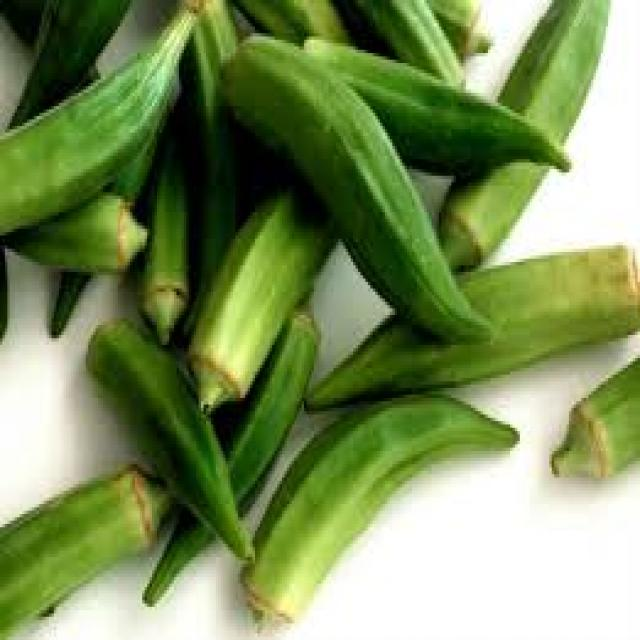organic waste: (218, 30, 491, 341), (238, 388, 517, 637), (302, 246, 638, 404), (140, 308, 316, 600), (434, 0, 611, 262), (0, 0, 194, 229), (84, 312, 252, 557), (186, 176, 344, 411), (299, 33, 567, 169), (0, 461, 172, 637), (167, 0, 243, 302), (2, 0, 130, 126), (0, 189, 147, 272), (547, 352, 637, 478), (331, 0, 461, 86), (140, 123, 189, 338), (235, 0, 358, 43), (424, 0, 493, 53), (0, 242, 7, 341)
